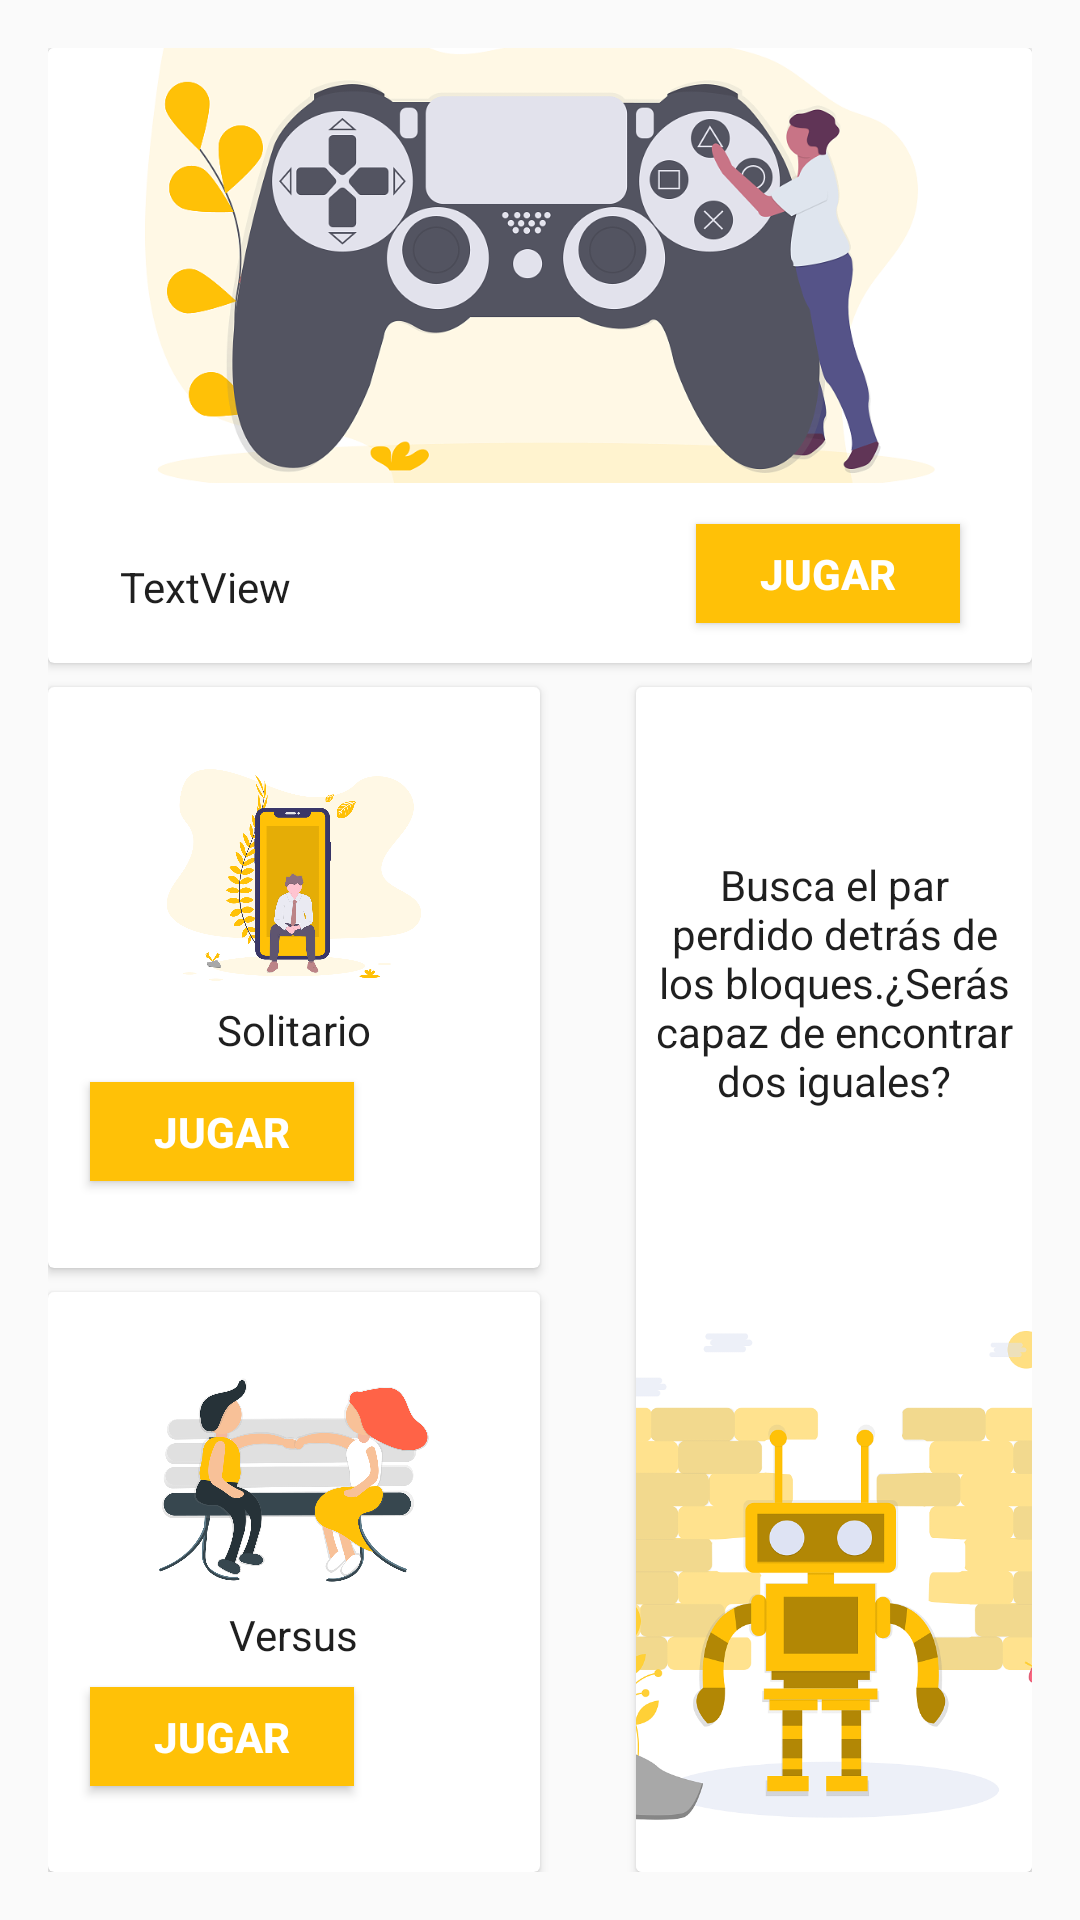

Point at icon controls on the screen. Image size 1080*1920, points as [x,y].
undraw couple: [294,1481]
undraw personalization triu: [294,875]
